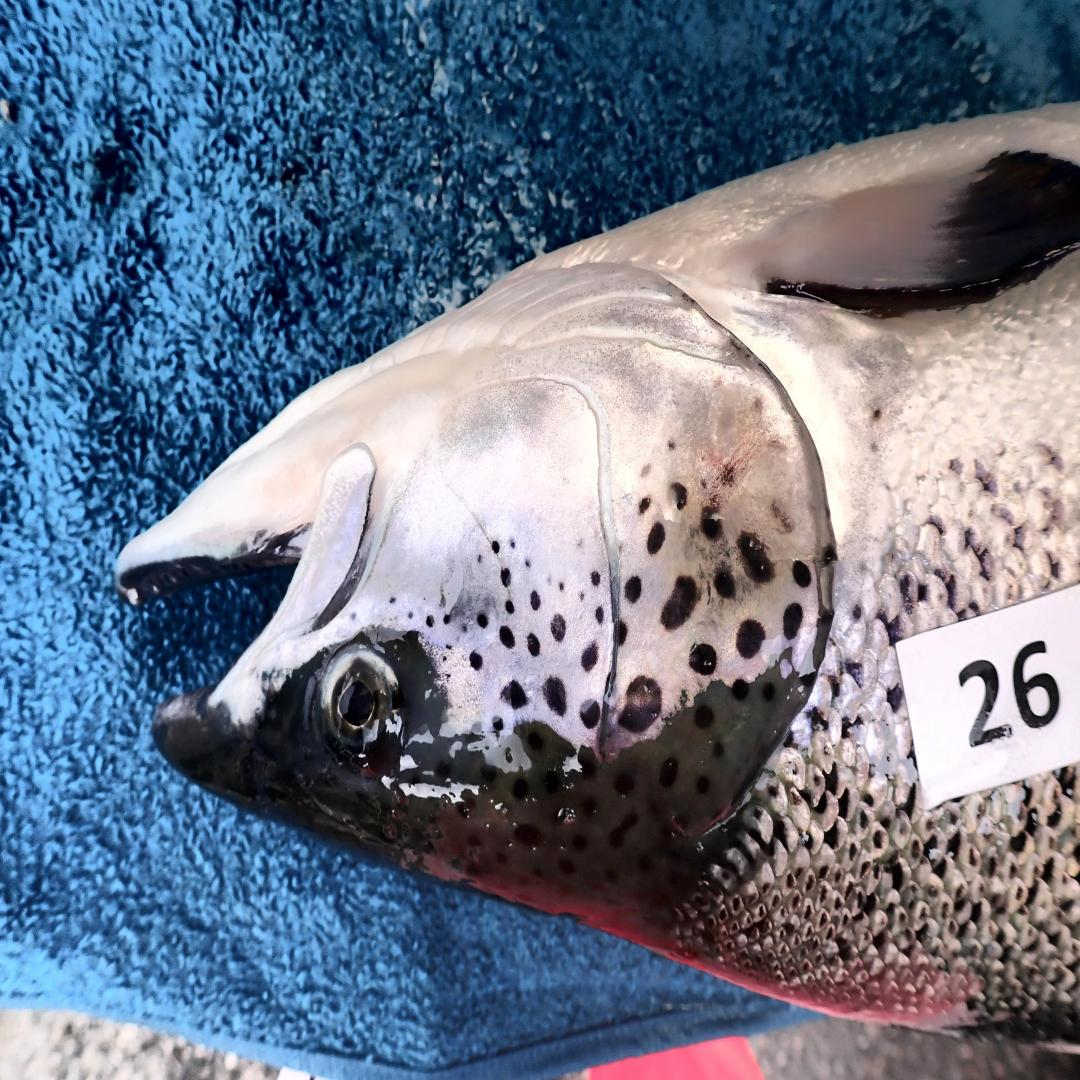spot: (618, 675, 662, 731), (660, 577, 700, 630), (738, 532, 774, 582), (736, 619, 766, 658), (690, 644, 717, 675), (544, 678, 567, 714), (771, 500, 794, 533), (783, 602, 804, 638), (700, 506, 721, 540), (502, 681, 527, 709), (580, 641, 599, 672), (580, 700, 601, 728), (793, 560, 812, 588), (648, 523, 664, 554), (715, 571, 734, 596), (717, 461, 735, 487), (671, 484, 688, 509), (624, 577, 641, 602), (551, 613, 565, 641), (500, 624, 515, 647), (822, 545, 837, 565), (527, 633, 540, 655), (468, 652, 483, 669), (639, 496, 651, 513), (618, 619, 626, 644), (500, 568, 510, 588), (680, 689, 689, 708), (493, 717, 503, 734), (477, 613, 489, 627), (504, 599, 515, 613), (532, 591, 540, 610), (591, 571, 601, 585), (595, 608, 603, 624), (491, 540, 500, 554), (426, 615, 434, 627), (668, 440, 676, 450), (509, 538, 515, 549), (444, 614, 450, 624), (462, 623, 468, 632), (389, 597, 396, 604), (445, 643, 451, 651), (525, 558, 530, 567), (559, 582, 564, 591), (478, 555, 482, 565), (408, 610, 413, 618), (444, 673, 450, 679), (580, 592, 584, 599), (443, 656, 446, 663)
